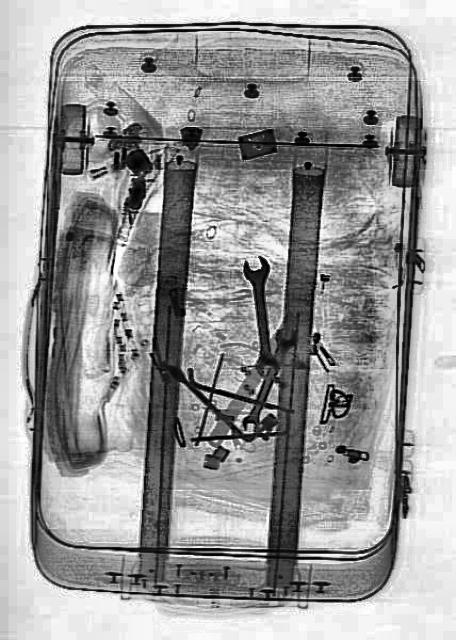Wrench: (238, 317, 300, 437), (240, 255, 282, 378)
